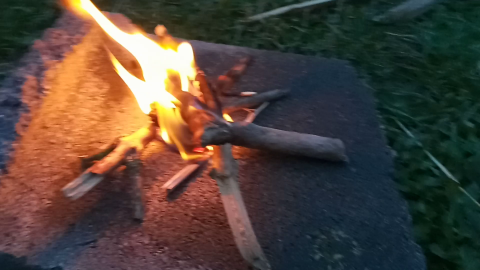fire: (72, 1, 212, 156)
